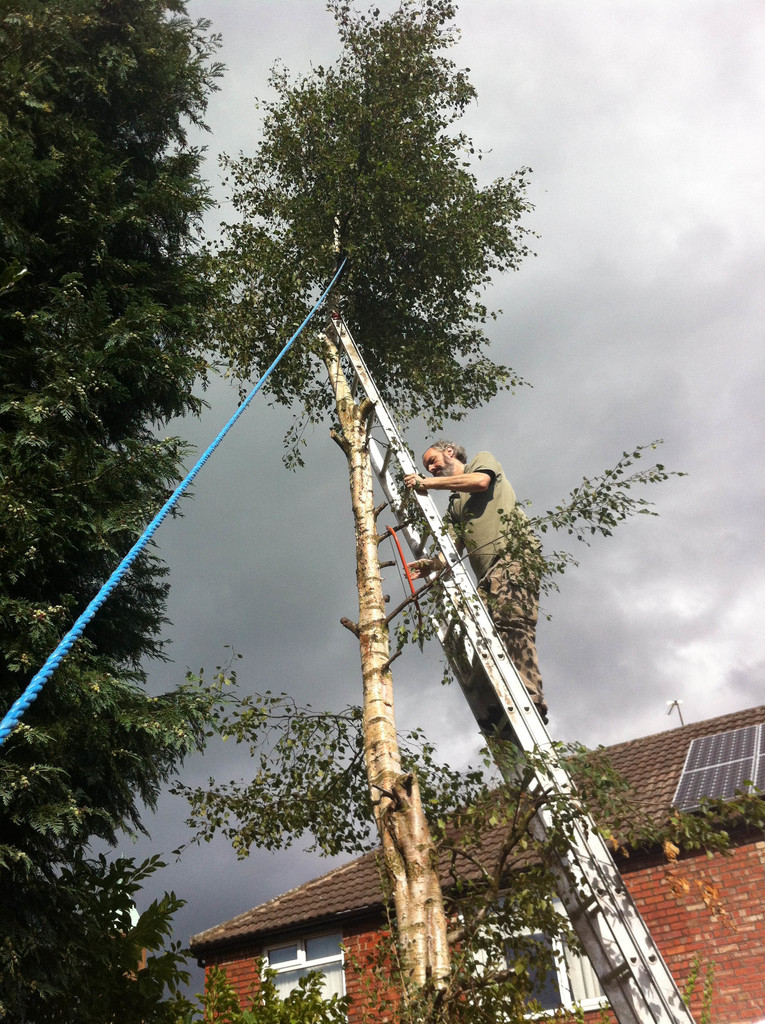Tree: (167, 0, 733, 1024), (0, 0, 234, 1024)
